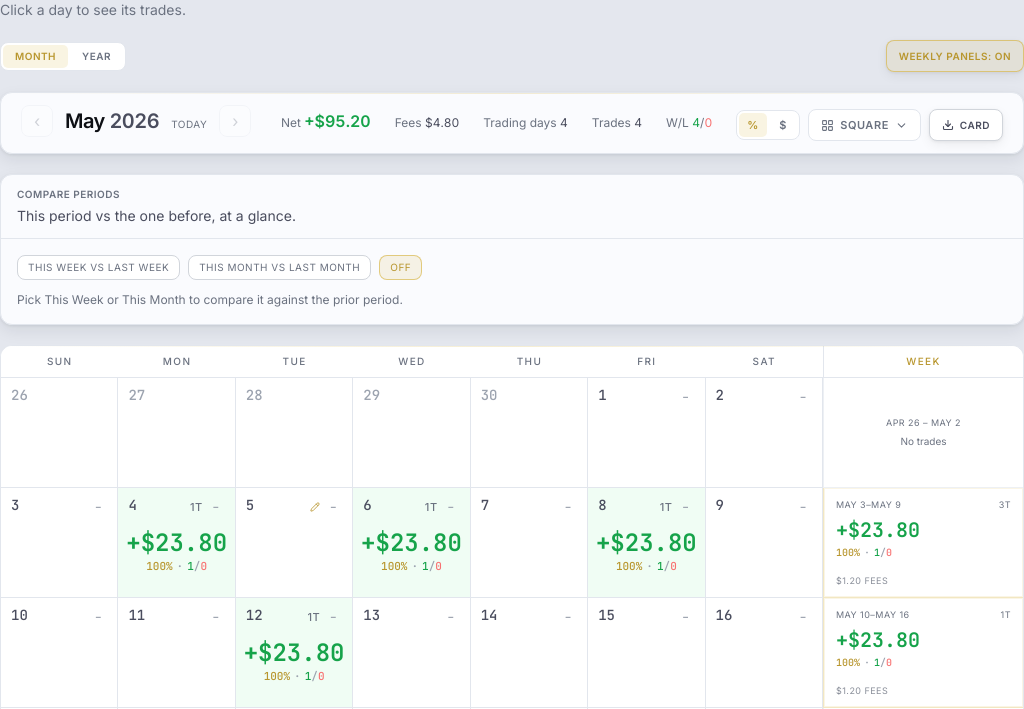
Test: (1) day modal — chevrons + "N of M", days-with-trades walk, no-wrap ends › renders arrows + counter; Next walks 04→06→08→12 in date order (05-05 skipped); ends disabled
Click the button "4 1t – +$23.80 100% · 1/0" at (177, 543), box 118,488 -> 236,598
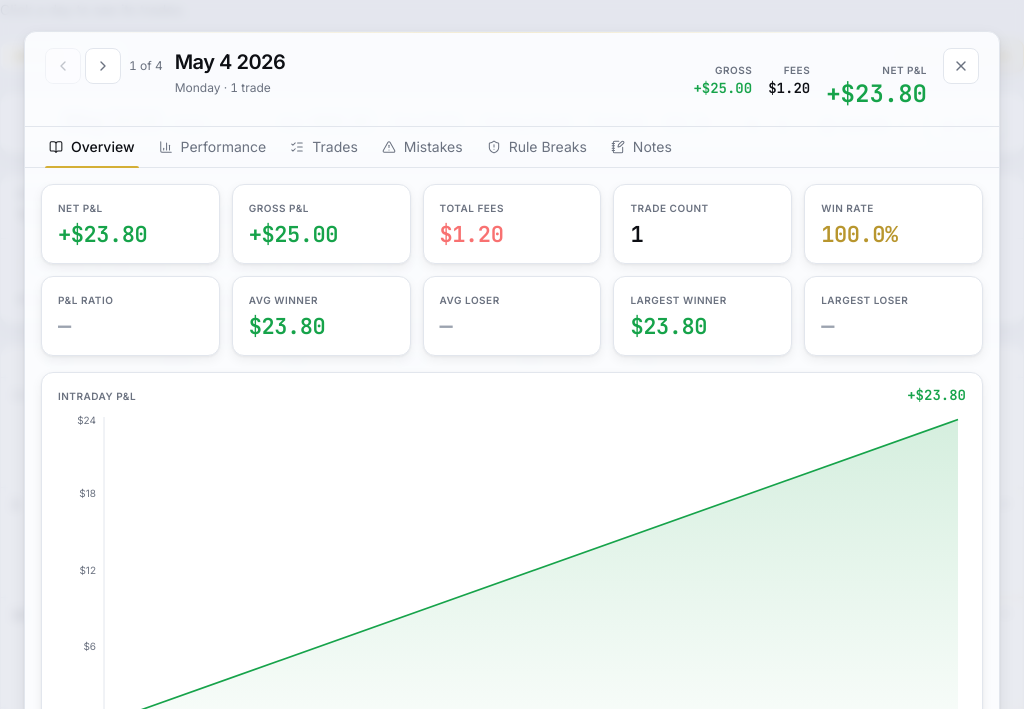
Now the text "Monday · 1 trade" is shown, box 175,80 -> 285,96
Now the heading with id "day-detail-title" reads "May 4 2026", box 175,50 -> 285,74
Now the text "1 of 4" is shown, box 129,58 -> 163,74
Click the button named "Next day" at (103, 66), box 85,48 -> 121,84
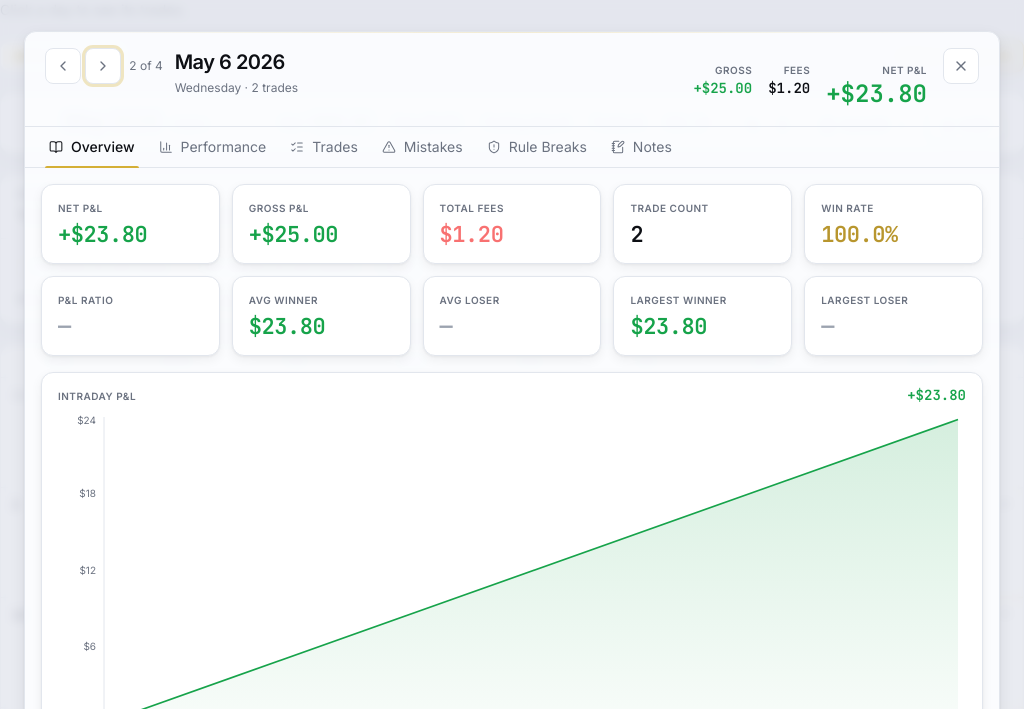
Now the heading with id "day-detail-title" reads "May 6 2026", box 175,50 -> 285,74
Now the text "2 of 4" is shown, box 129,58 -> 163,74
Now the text "Wednesday · 2 trades" is shown, box 175,80 -> 298,96
Click the button named "Next day" at (103, 66), box 85,48 -> 121,84
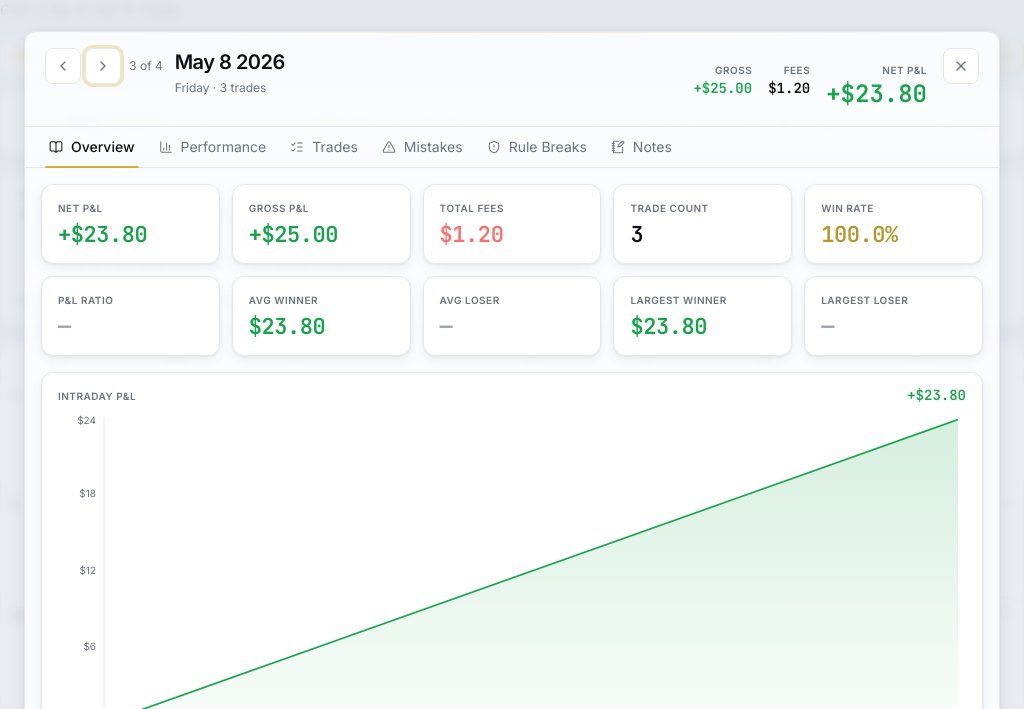
Now the heading with id "day-detail-title" reads "May 8 2026", box 175,50 -> 285,74
Now the text "3 of 4" is shown, box 129,58 -> 163,74
Click the button named "Next day" at (103, 66), box 85,48 -> 121,84
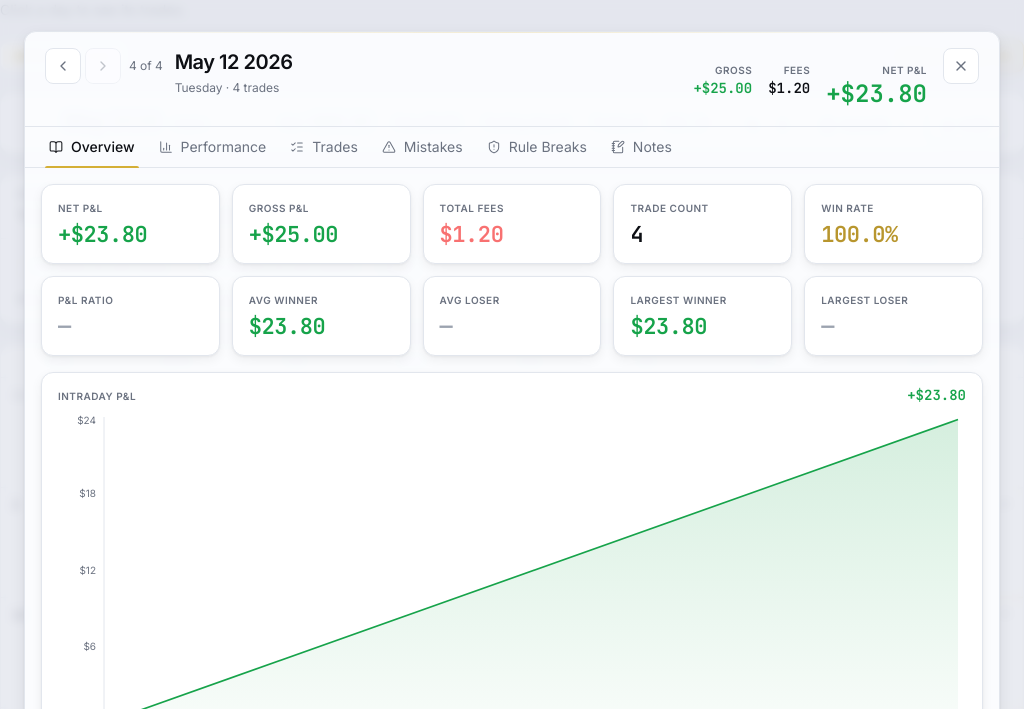
Now the button named "Previous day" is enabled
Now the heading with id "day-detail-title" reads "May 12 2026", box 175,50 -> 292,74
Now the text "4 of 4" is shown, box 129,58 -> 163,74
Click the button named "Previous day" at (63, 66), box 45,48 -> 81,84
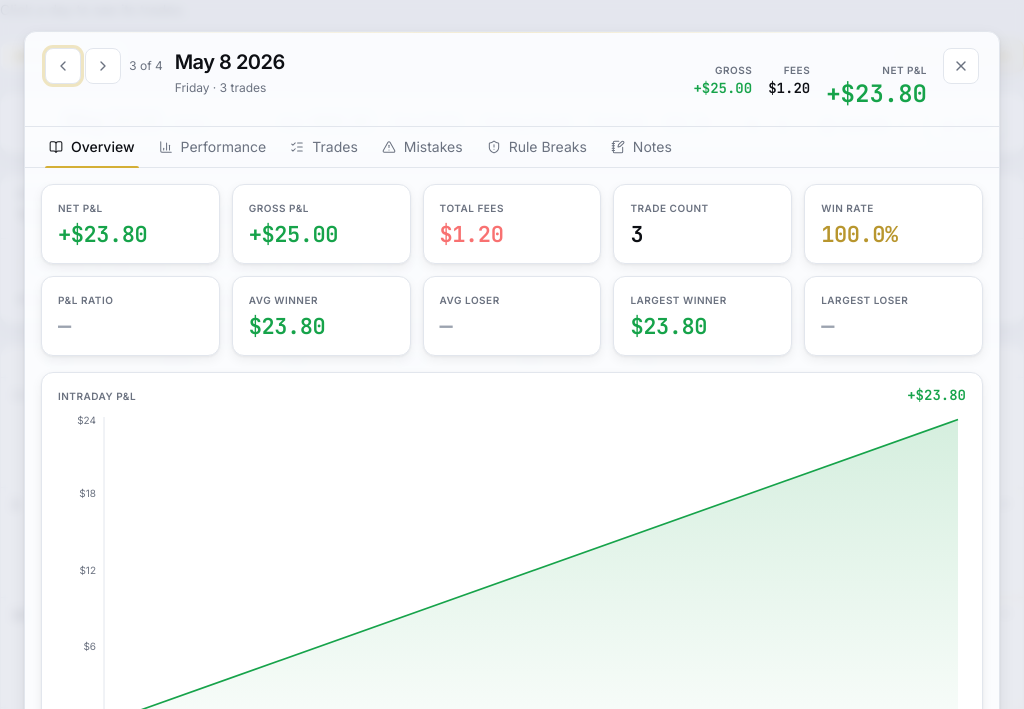
Now the heading with id "day-detail-title" reads "May 8 2026", box 175,50 -> 285,74
